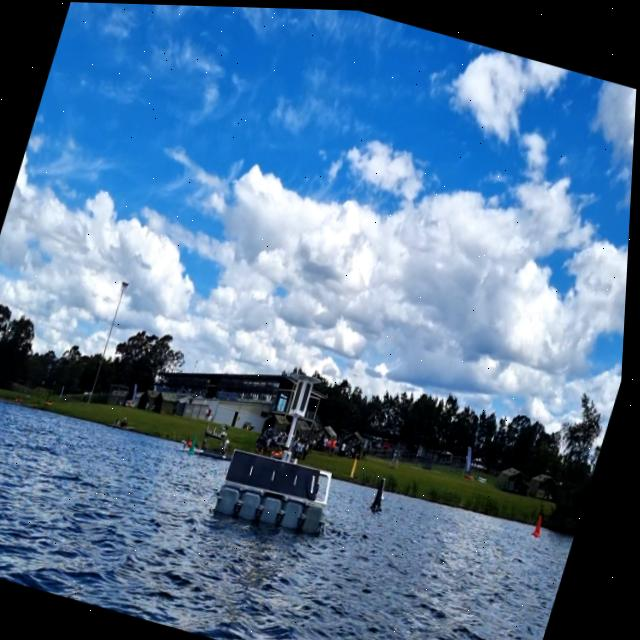led: (293, 376, 317, 413), (301, 377, 317, 412), (294, 378, 309, 410)
